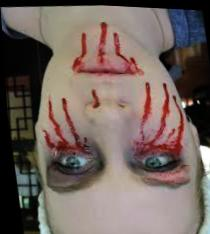Fire: (137, 81, 182, 156), (42, 98, 87, 152), (112, 31, 138, 70), (71, 31, 86, 71), (97, 21, 107, 63), (90, 88, 98, 107)
